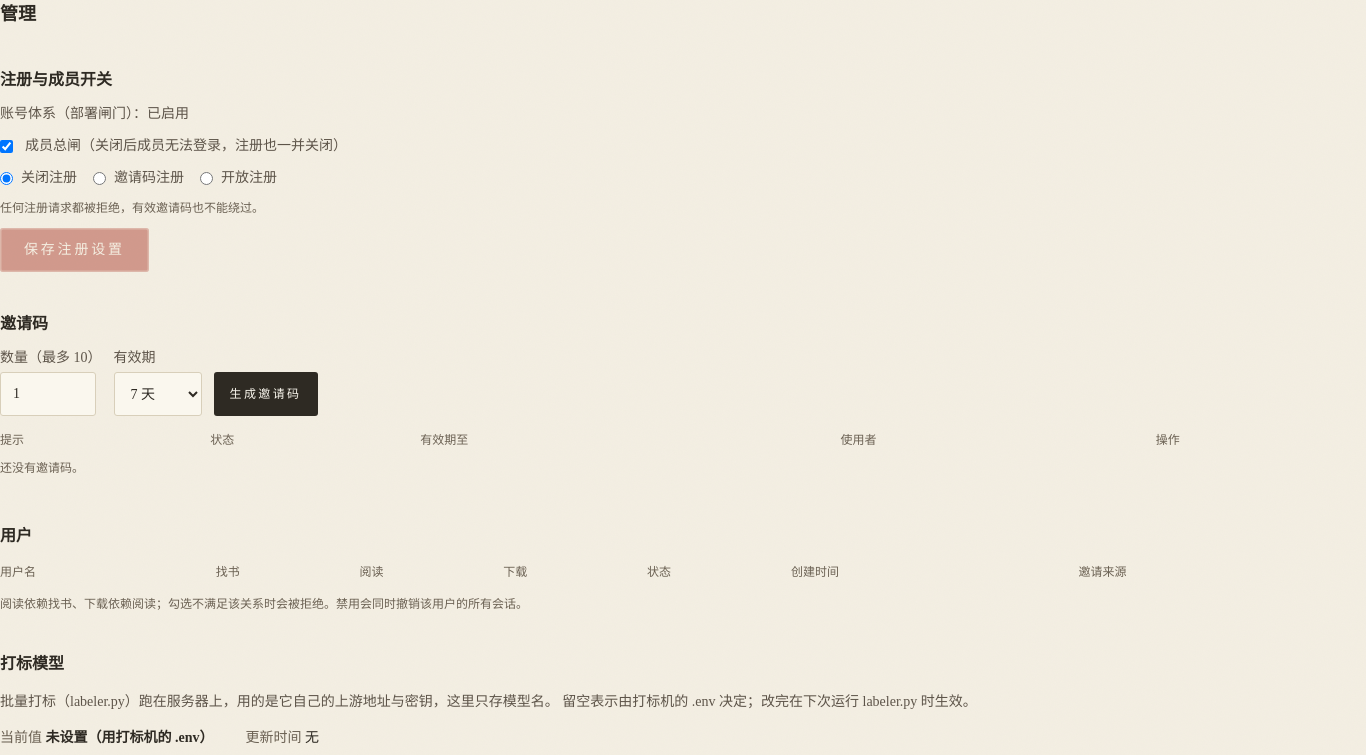
Scenario: 注册设置草稿与保存快照 › 没有后续编辑时，成功响应更新基准并消除未保存状态
Click the radio button labelled "邀请码注册" at (100, 178), box [93,172,106,184]
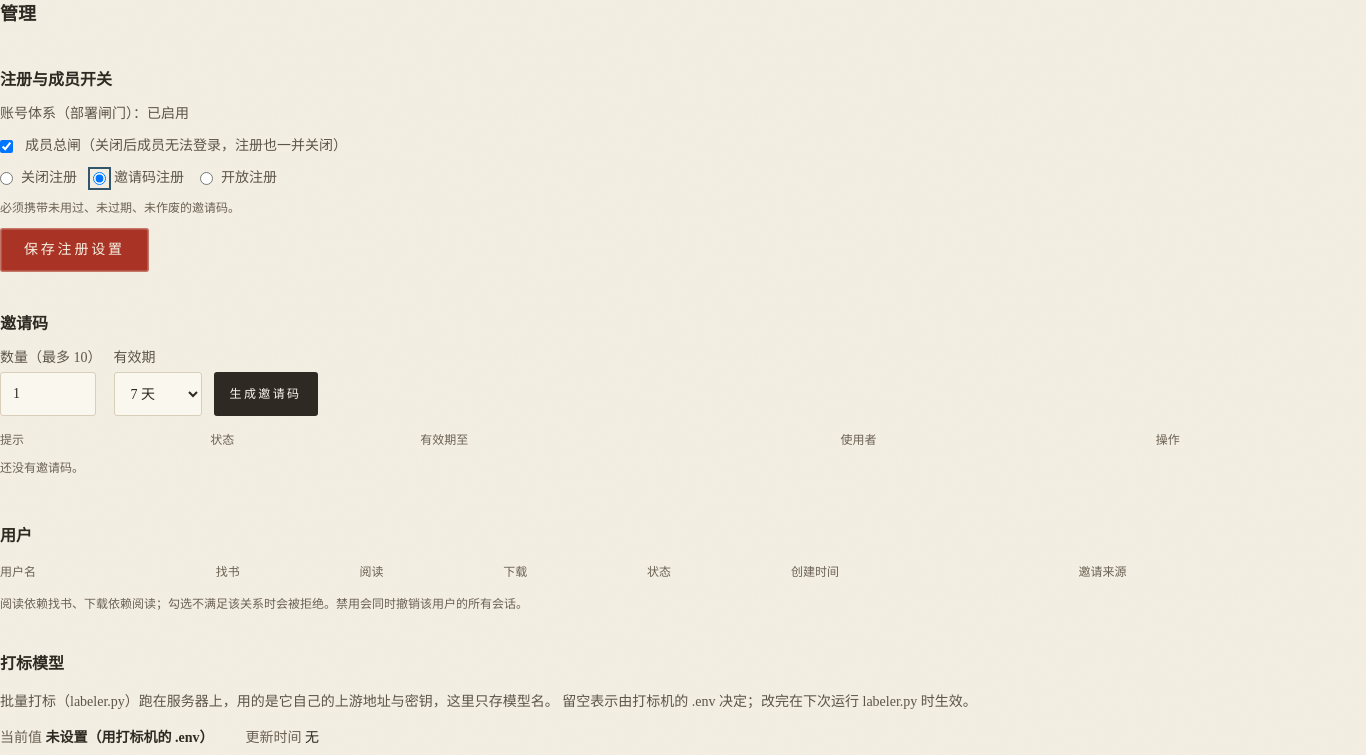
Click the button "保存注册设置" at (74, 250), box [0,228,149,272]
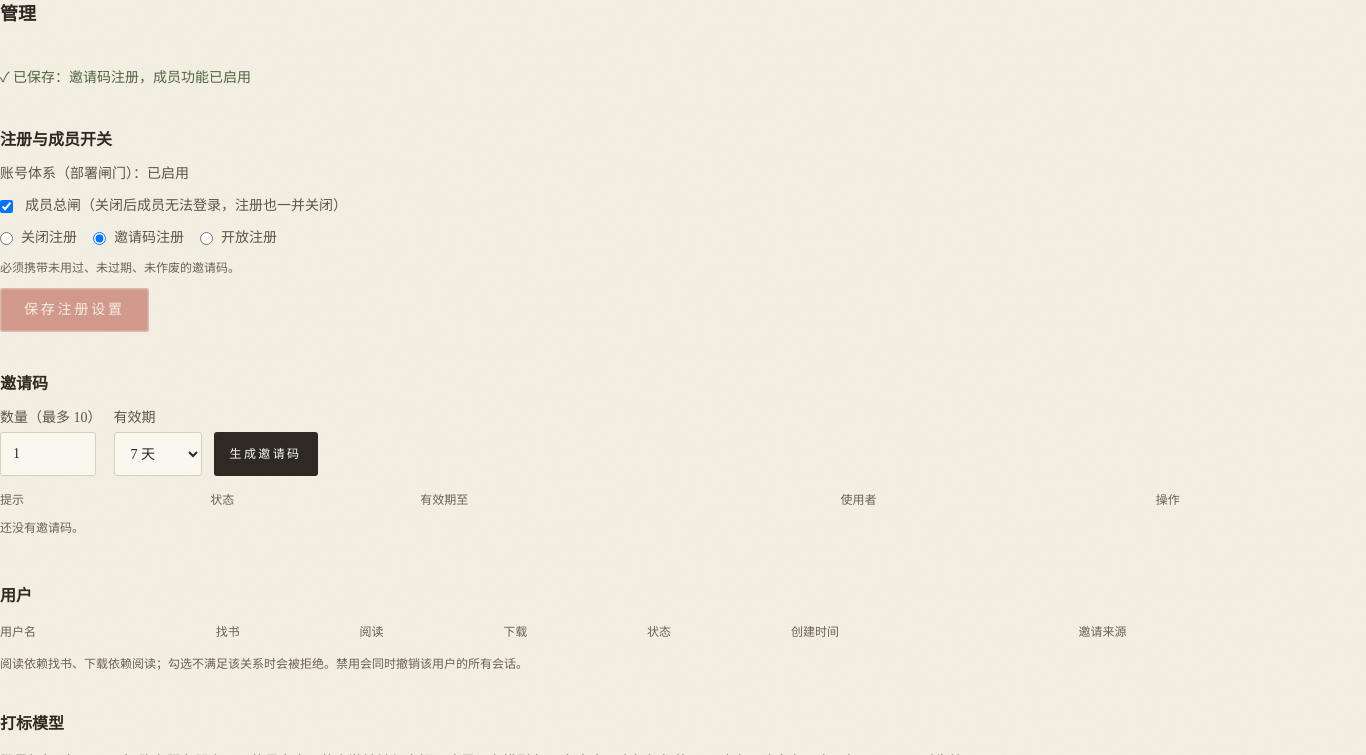
expect the radio button labelled "邀请码注册" is checked: met, box [93,232,106,244]
expect the button "保存注册设置" is disabled: met, box [0,288,149,332]
expect the text "✓ 已保存：邀请码注册，成员功能已启用" is shown: met, box [0,70,251,85]
